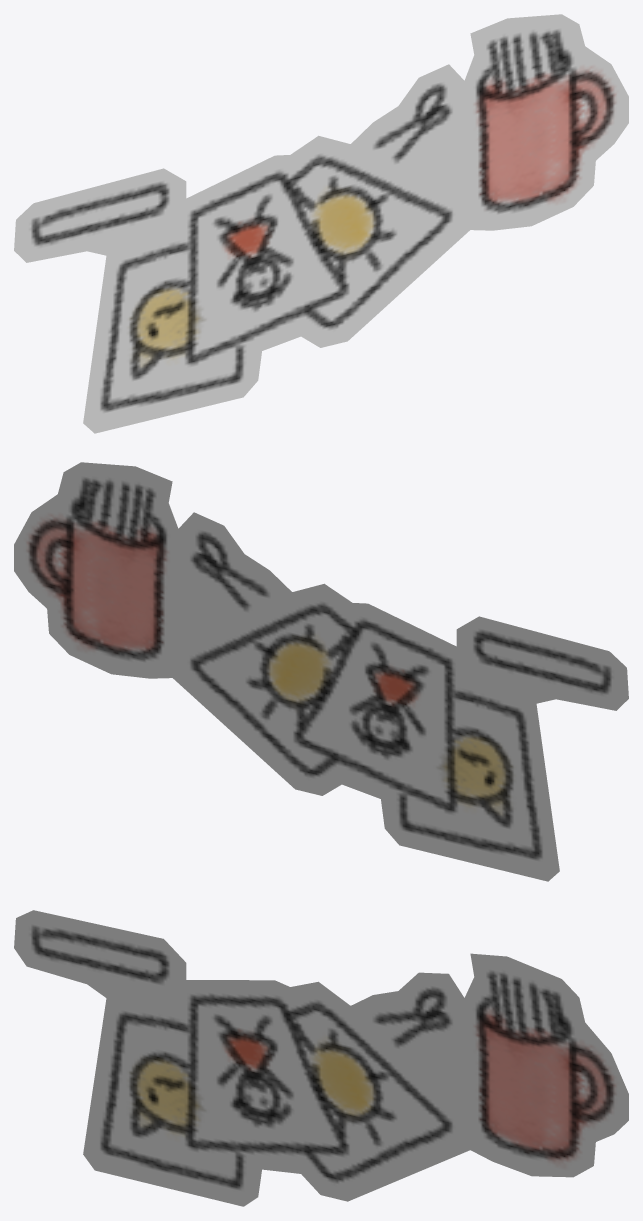
The model's file is Pappers.fbx.
3 renders of one model, top to bottom at view 1: azimuth 30°, elevation 25°; view 2: azimuth 150°, elevation 25°; view 3: azimuth 330°, elevation 25°, orthographic.
Parts seen in each view (by area): view 1: pappers; view 2: pappers; view 3: pappers.
Part boxes in pixels (left/top/right/bottom): pappers: left=14, top=14, right=628, bottom=433; pappers: left=14, top=462, right=628, bottom=881; pappers: left=14, top=910, right=628, bottom=1206.
Bounding box in the file's own units: 61.44 × 30.04 × 4.89e-06.
1 material, 1 textured.
